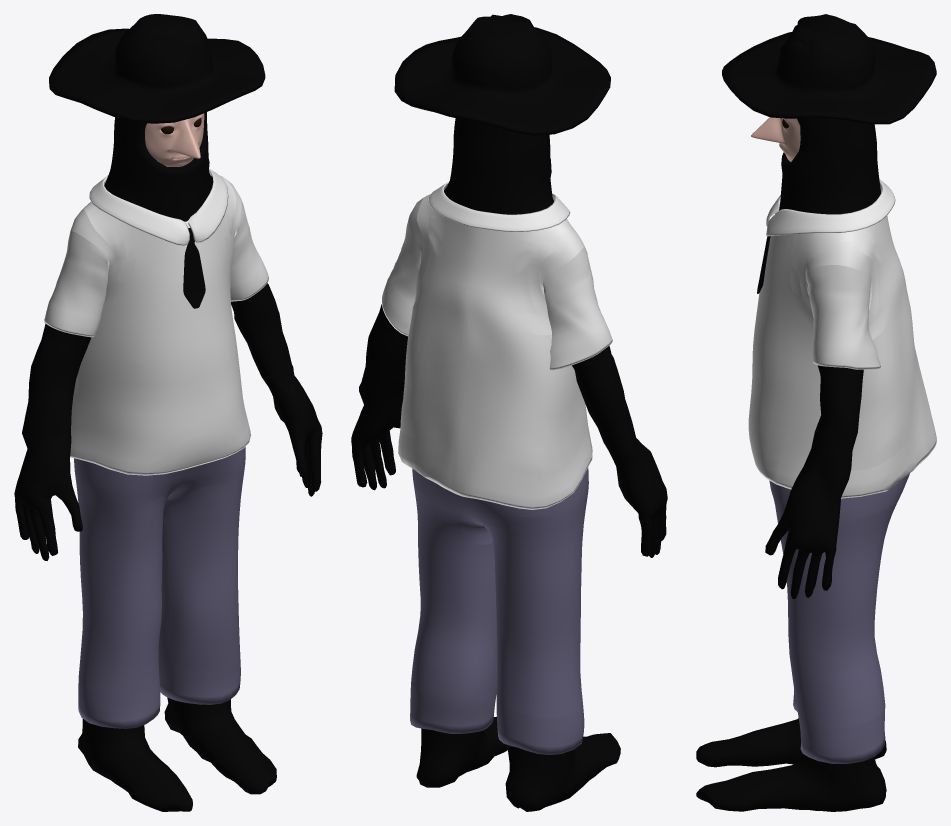
Rendered from Greg.glb.
The picture shows the model from 3 angles, left to right: view 1: azimuth 30°, elevation 25°; view 2: azimuth 150°, elevation 25°; view 3: azimuth 270°, elevation 25°; orthographic projection. The views are drawn at different scales.
Visible parts, largest first — view 1: body.006, body.002, body.007, hat brim.001, Plane.011, Plane.002; view 2: body.006, body.002, body.007, hat brim.001; view 3: body.006, body.007, body.002, hat brim.001, Plane.011.
Boxes of the visible parts, bbox=[...] form: body.006: bbox=[44, 168, 268, 475]; body.002: bbox=[74, 447, 245, 728]; body.007: bbox=[14, 112, 322, 811]; hat brim.001: bbox=[49, 14, 265, 123]; Plane.011: bbox=[145, 113, 204, 166]; Plane.002: bbox=[183, 228, 205, 308]; body.006: bbox=[382, 181, 612, 509]; body.002: bbox=[410, 467, 588, 754]; body.007: bbox=[351, 118, 667, 811]; hat brim.001: bbox=[394, 14, 610, 135]; body.006: bbox=[748, 179, 936, 498]; body.007: bbox=[696, 118, 886, 811]; body.002: bbox=[769, 473, 909, 763]; hat brim.001: bbox=[722, 14, 936, 124]; Plane.011: bbox=[751, 117, 800, 161].
Size of the model in its own units: 2.43 by 5.81 by 1.66.
